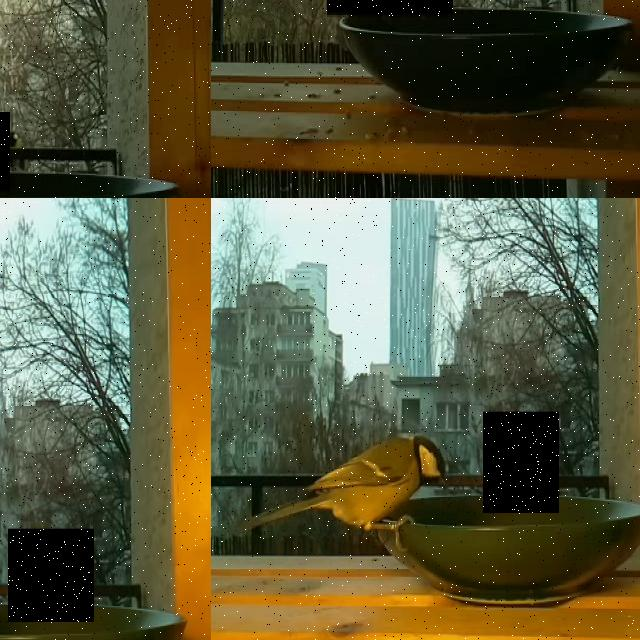Bogatka: (234, 432, 452, 558)
Wrobel: (8, 529, 94, 622), (483, 412, 559, 513)
